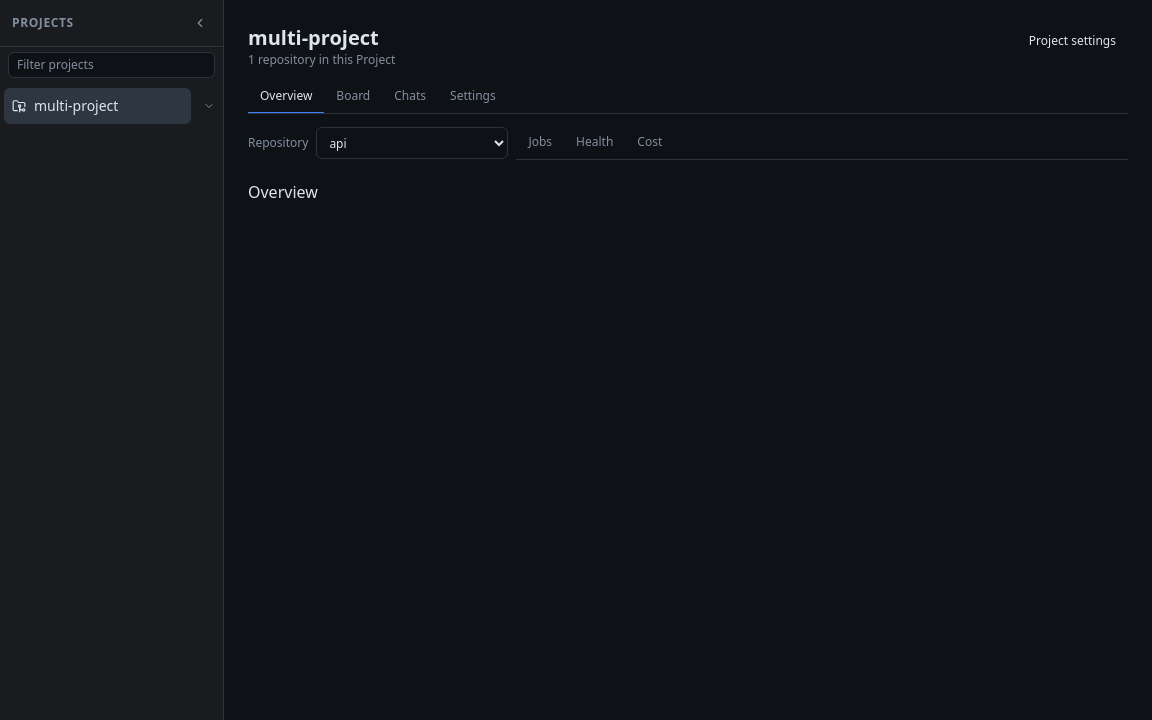
RepoLayout project sidebar › labels the project-scoped settings action clearly
Click the button "Project settings".
click(1072, 41)  # box x1=1017 y1=27 x2=1128 y2=55
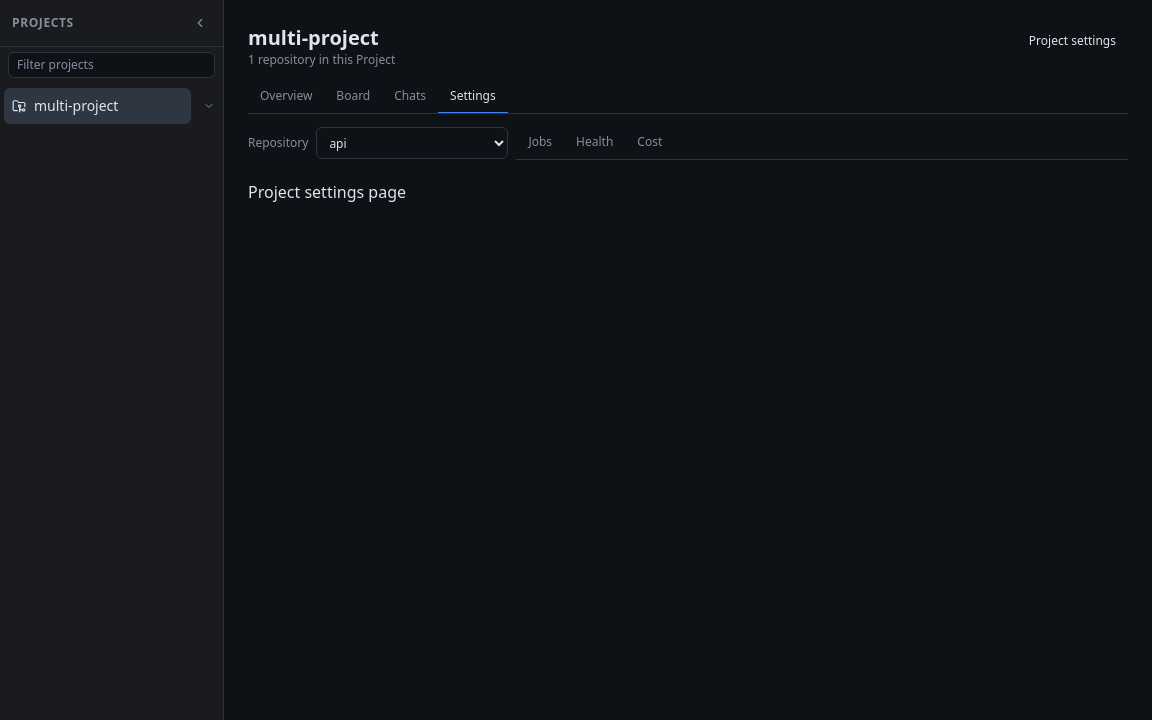
expect the text "Project settings page" is shown: met, box x1=248 y1=181 x2=406 y2=203
